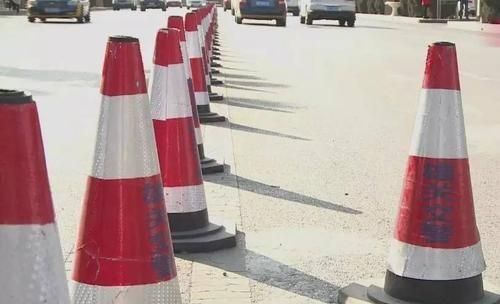cone_barrel: (376, 43, 490, 303), (63, 35, 174, 298), (145, 28, 218, 243)
